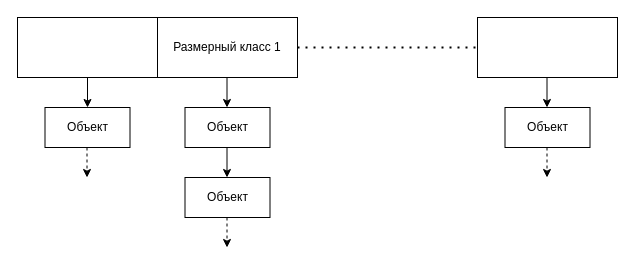
The diagram is 635 pixels wide and 273 high, and some of its shapes have lost their labels. Each missing label, with the box of its shape:
Размерный класс 0: (16, 16, 158, 78)
Размерный класс M: (476, 16, 618, 78)
